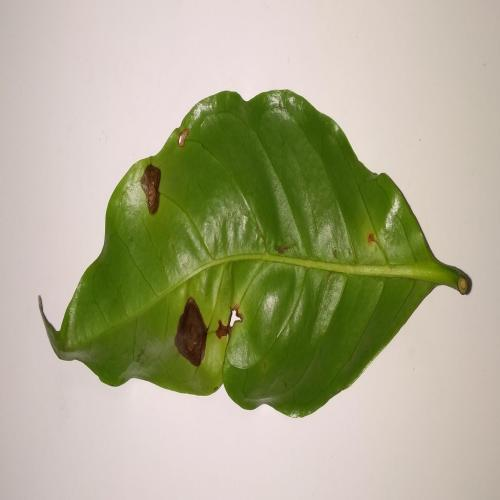leaf: (31, 72, 476, 427)
phoma: (172, 292, 213, 376), (133, 162, 167, 224), (216, 301, 247, 342)
